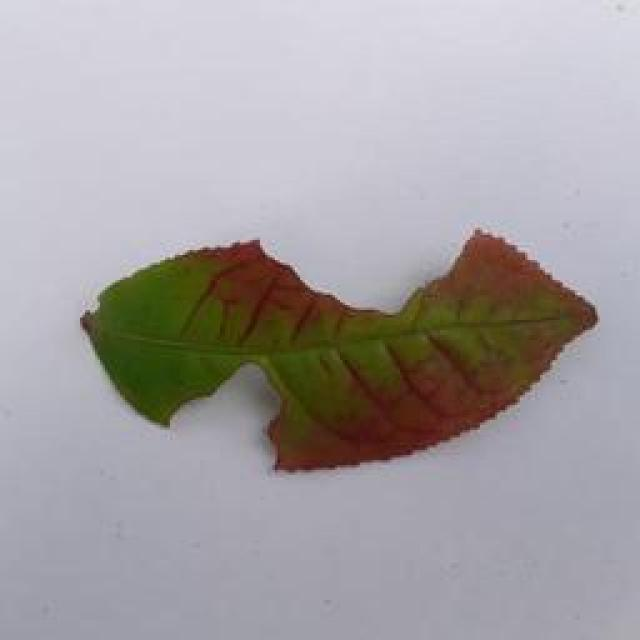Red Leaf Spot: (64, 210, 610, 495)
